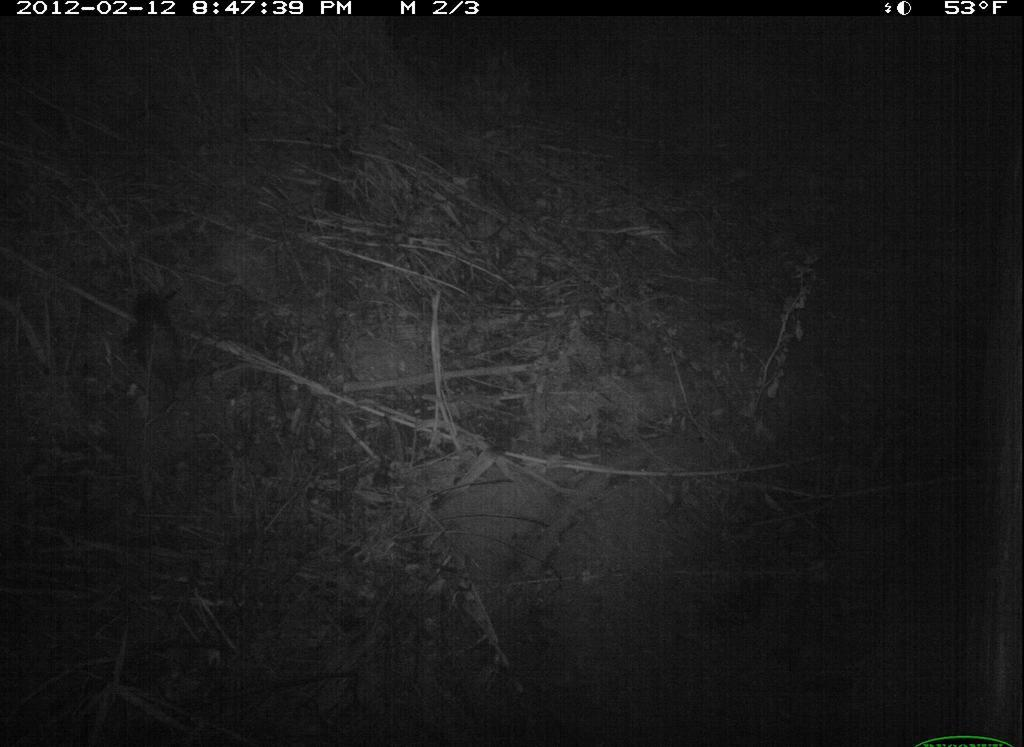opossum: (118, 291, 197, 429)
